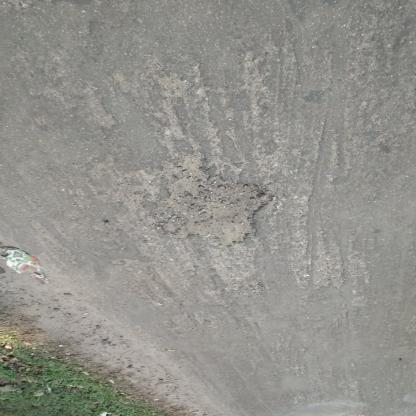pothole: (152, 176, 272, 250)
